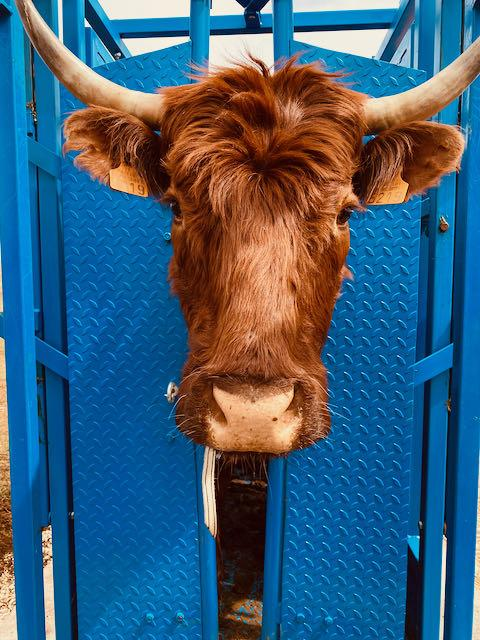muzzles: (169, 369, 334, 461)
